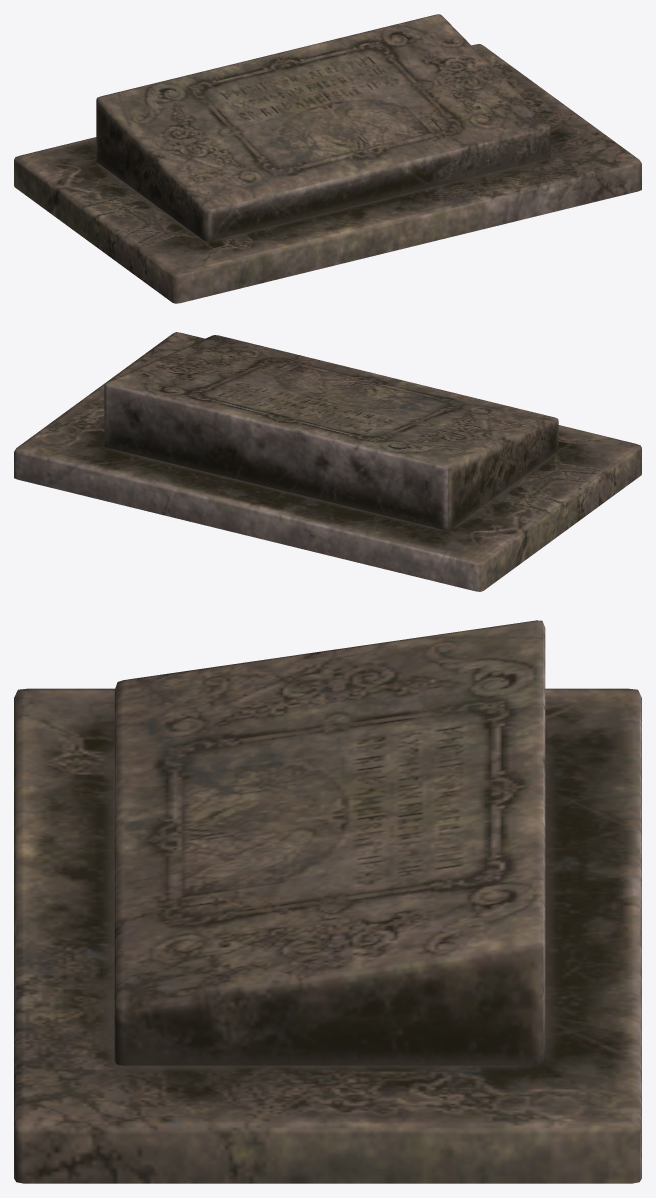
File: SM_tombstone_02.fbx
3 renders of one model, top to bottom at view 1: azimuth 30°, elevation 25°; view 2: azimuth 150°, elevation 25°; view 3: azimuth 270°, elevation 25°, orthographic. The views are drawn at different scales.
Visible parts, largest first — view 1: SM_tombstone_02; view 2: SM_tombstone_02; view 3: SM_tombstone_02.
Part boxes in pixels (x1=…): SM_tombstone_02: x1=14, y1=14, x2=641, y2=303; SM_tombstone_02: x1=14, y1=332, x2=641, y2=591; SM_tombstone_02: x1=14, y1=620, x2=641, y2=1183.
Size of the model in its own units: 121 by 22.93 by 73.01.
